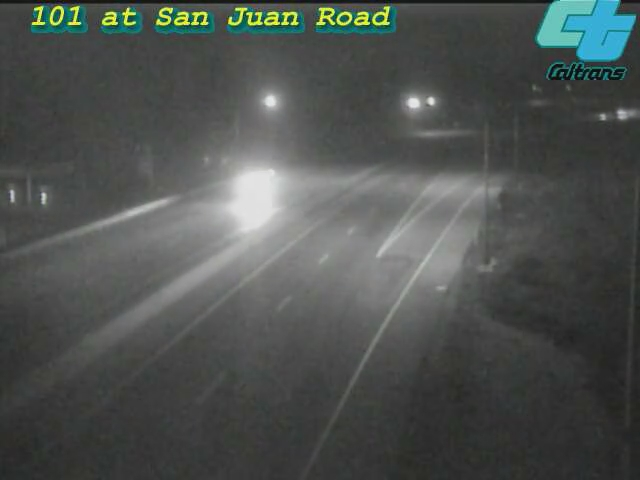vehicle: (212, 155, 292, 235), (602, 89, 640, 139)
